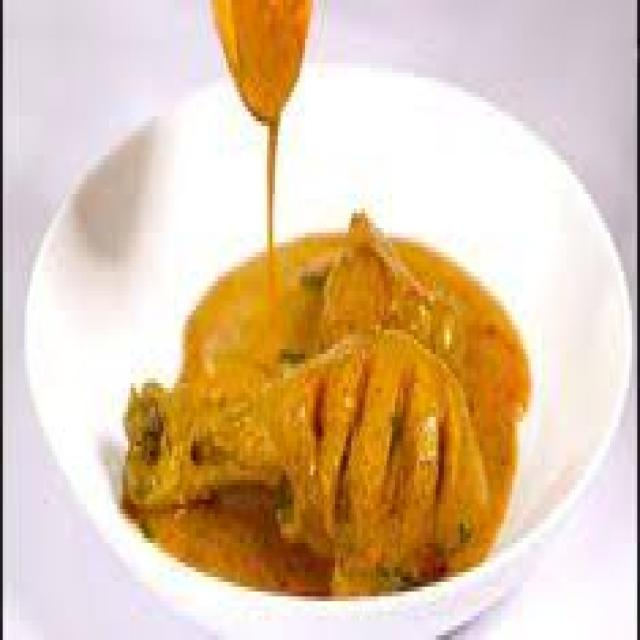Frango: (115, 214, 518, 602)
